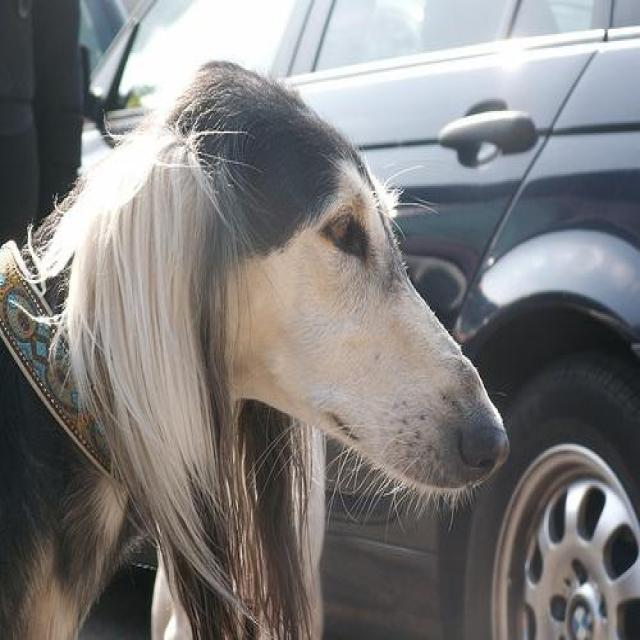saluki: (2, 54, 510, 636)
